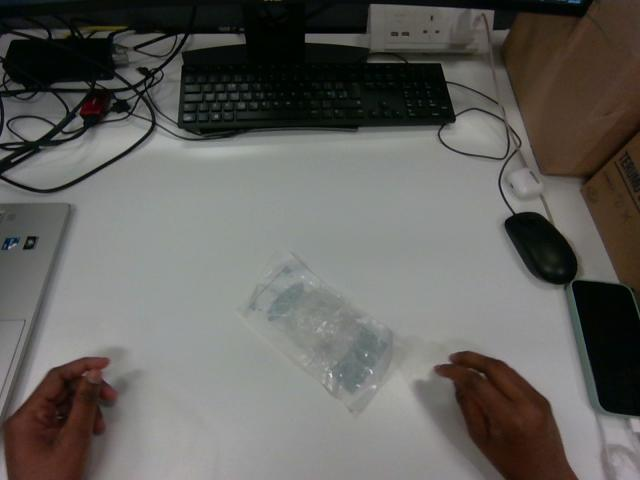gallipot: (240, 255, 392, 410)
